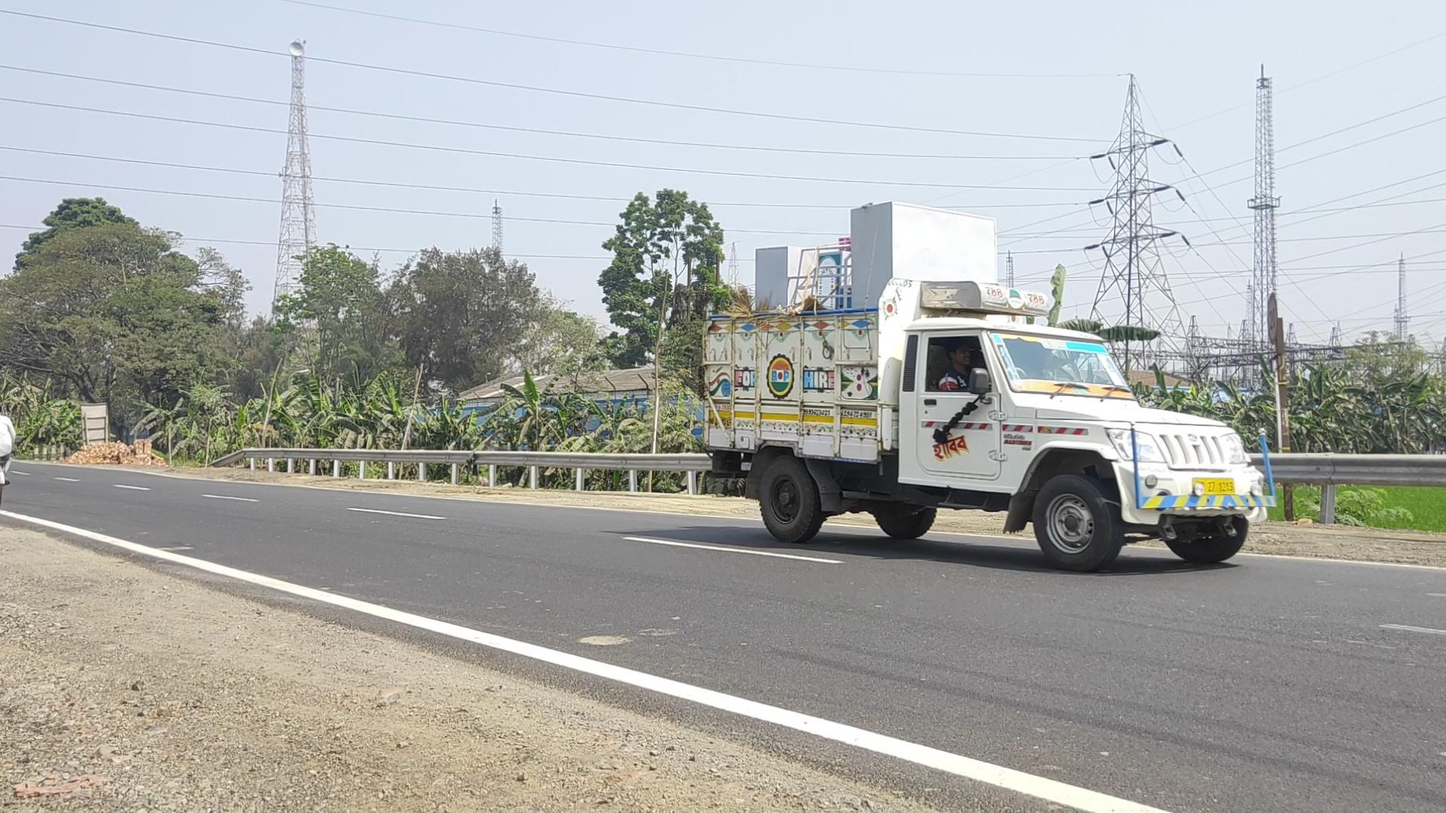van: (698, 202, 1277, 572)
